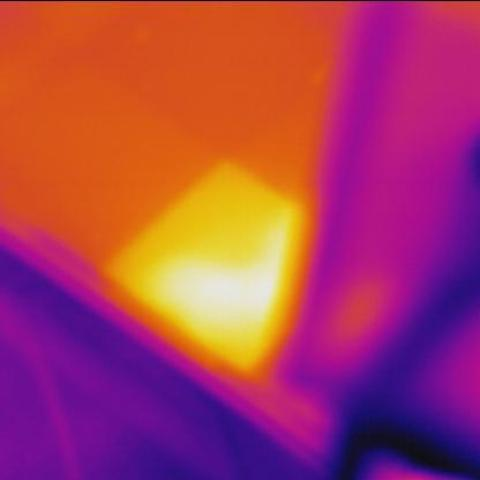fault: (153, 209, 283, 344)
